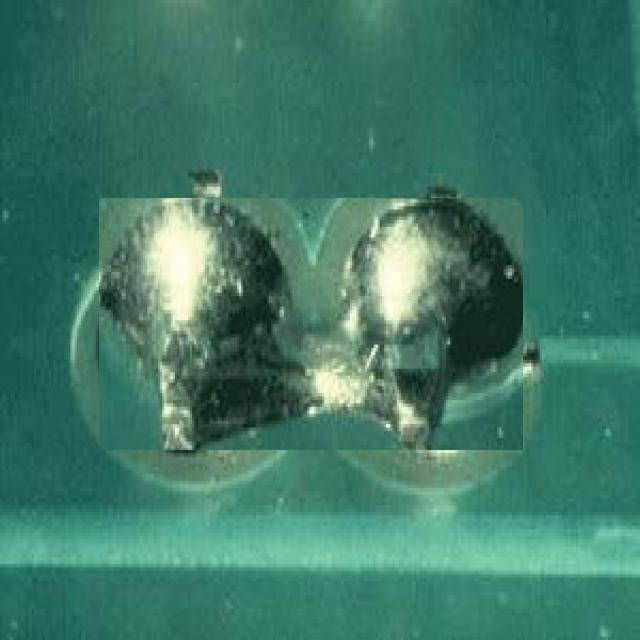Short_circuit: (99, 199, 523, 449)
